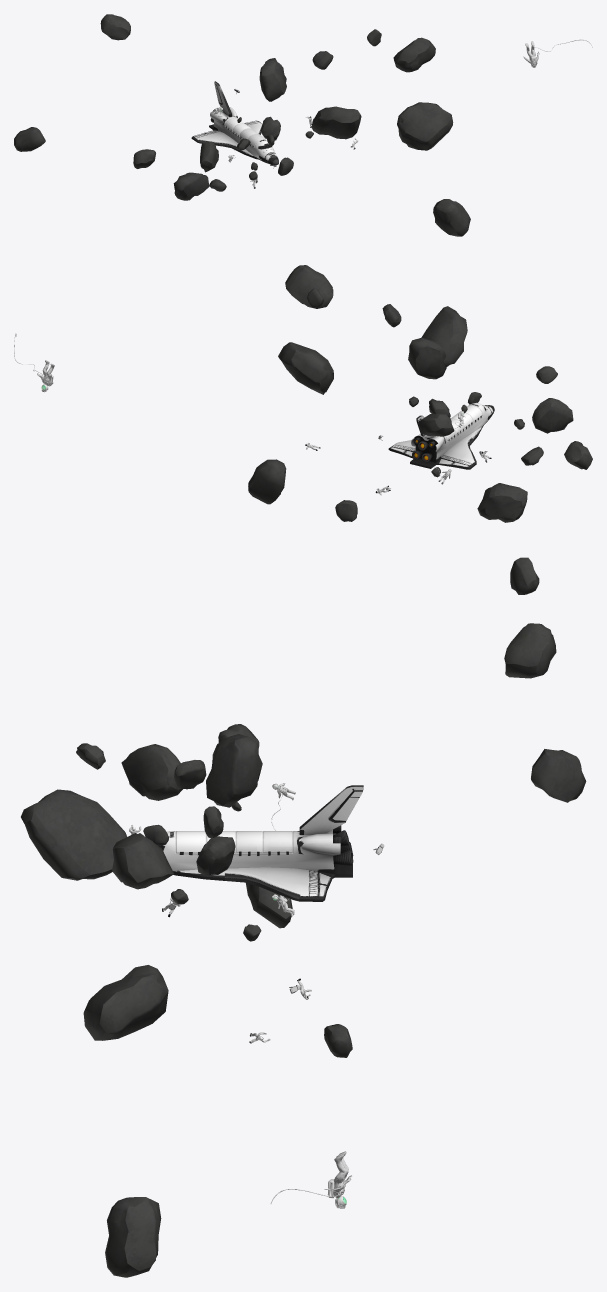
Rendered from Shuttle3.glb.
The picture shows the model from 3 angles, top to bottom: view 1: azimuth 30°, elevation 25°; view 2: azimuth 150°, elevation 25°; view 3: azimuth 270°, elevation 25°; orthographic projection. The views are drawn at different scales.
Parts seen in each view (by area): view 1: polySurface14371_phong4_0, Object_2; view 2: polySurface14371_phong4_0, Object_2; view 3: polySurface14371_phong4_0, Object_2.
Boxes of the visible parts, left/top/right/bottom form: polySurface14371_phong4_0: left=14, top=14, right=470, bottom=236; Object_2: left=191, top=81, right=278, bottom=164; polySurface14371_phong4_0: left=248, top=265, right=592, bottom=594; Object_2: left=388, top=402, right=494, bottom=469; polySurface14371_phong4_0: left=21, top=623, right=586, bottom=1277; Object_2: left=158, top=785, right=363, bottom=901.
Bounding box in the file's own units: 75.97 × 29.75 × 36.86.
13 materials, 4 textured.
